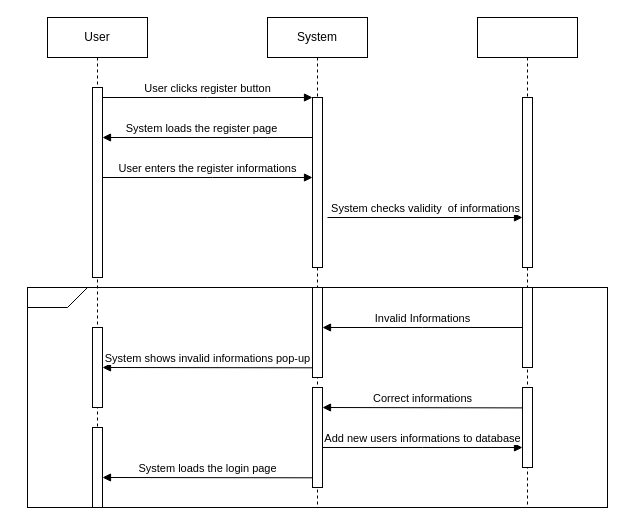
The diagram is 625 pixels wide and 525 high, and some of its shapes have lost their labels. Each missing label, with the centre of its shape:
alt: (57,297)
Database: (527,262)
